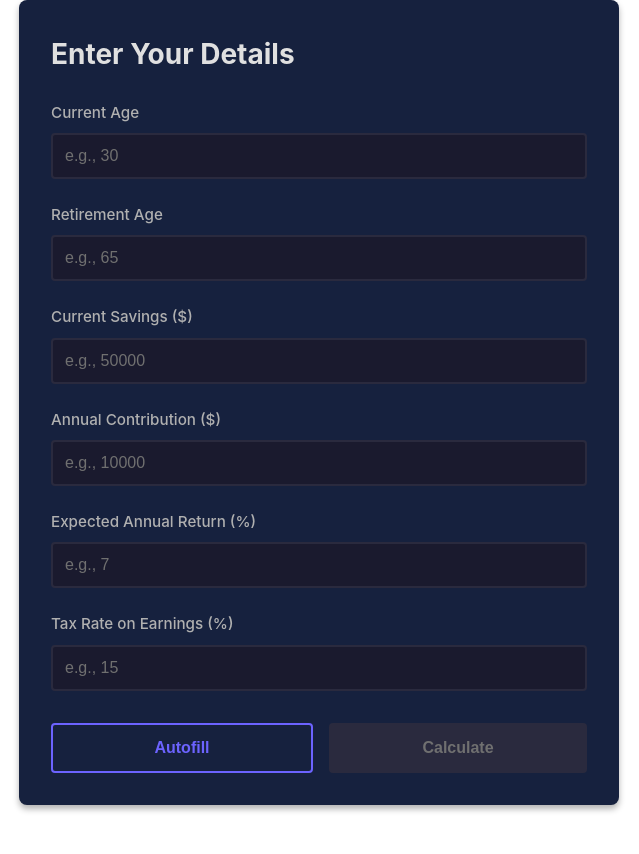
Test: InputForm › should show validation error when current age is greater than or equal to retirement age
Type "65" into the number field labelled "Retirement Age".
click(319, 258); type("65")  # box [51,235,587,281]
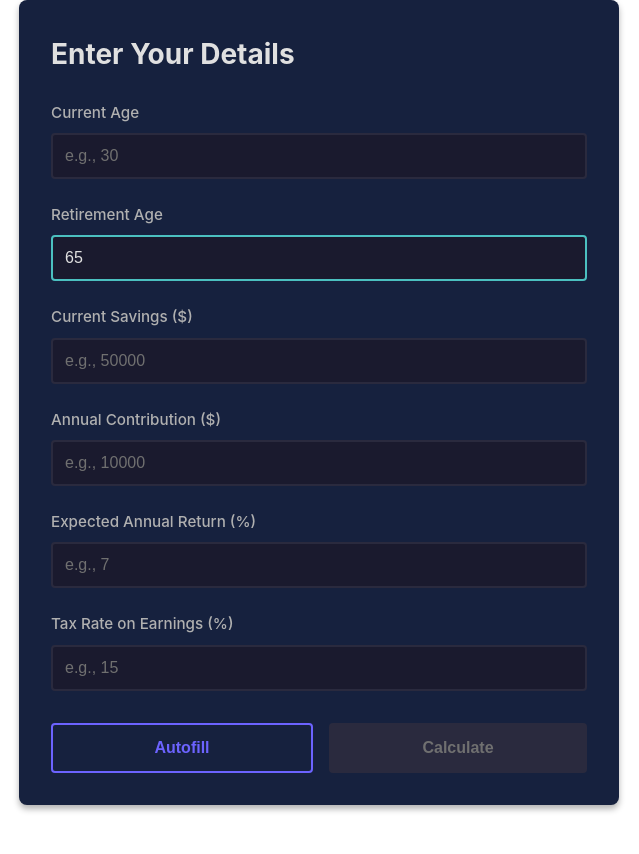
Type "65" into the number field labelled "Current Age".
click(319, 156); type("65")  # box [51,133,587,179]
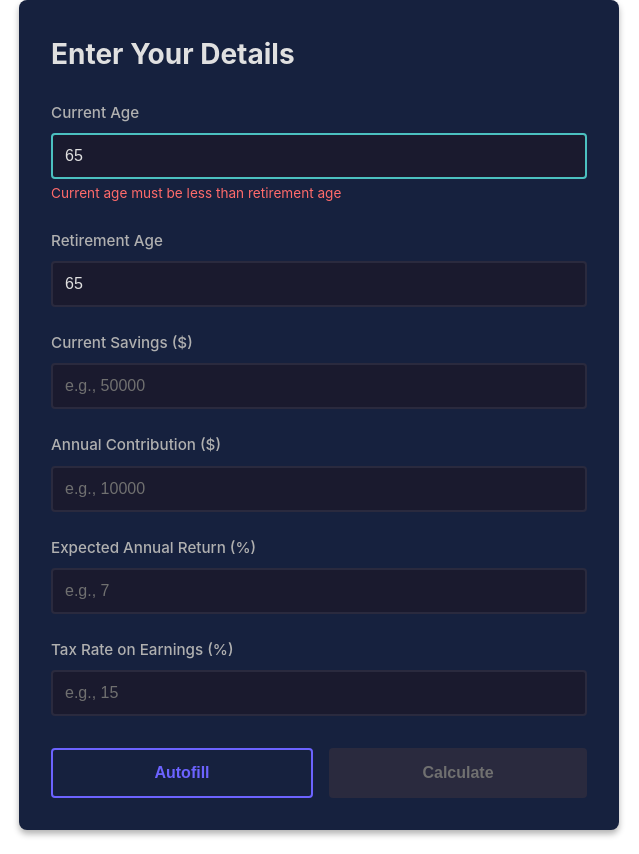
Expected: the text "Current age must be less than retirement age" is shown, [51,185,341,201]
